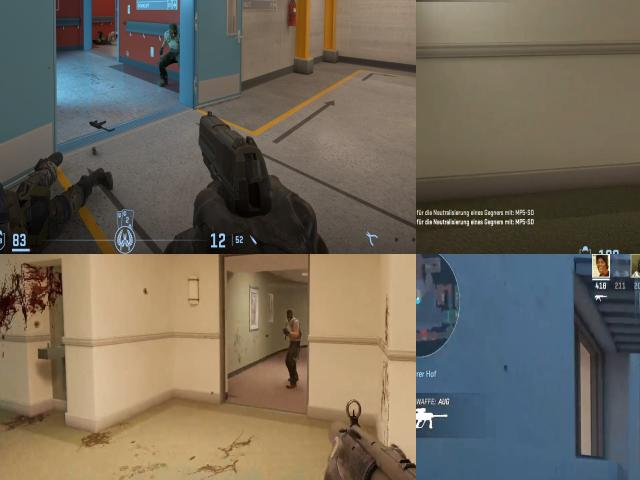Dead: (0, 151, 109, 254), (93, 30, 118, 47)
T: (163, 22, 179, 88), (284, 308, 303, 355)
T-Head: (168, 22, 178, 40), (286, 308, 296, 325)
